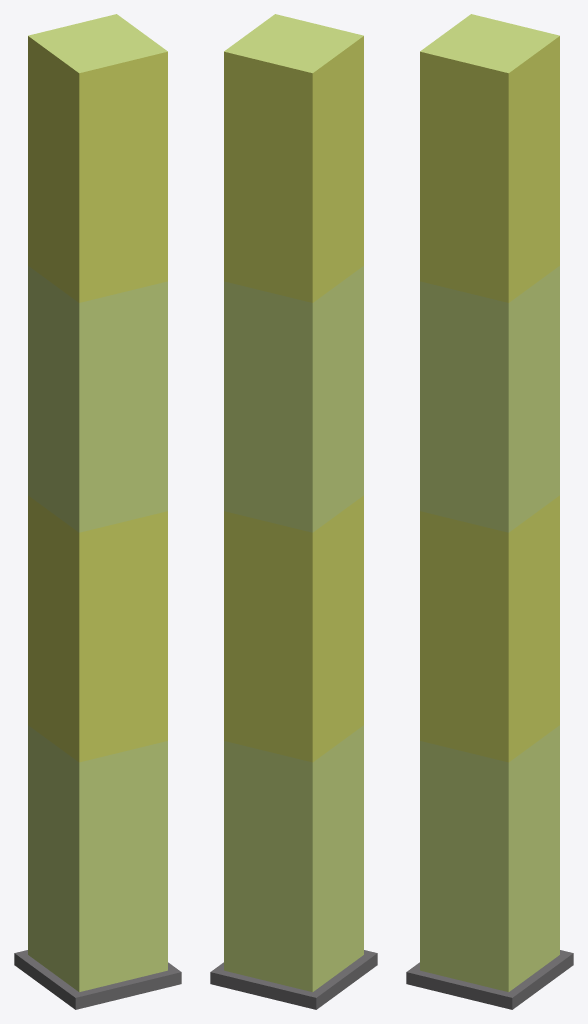
The model's file is StageT2.fbx.
The picture shows the model from 3 angles, left to right: view 1: azimuth 30°, elevation 25°; view 2: azimuth 150°, elevation 25°; view 3: azimuth 330°, elevation 25°; orthographic projection.
Parts seen in each view (by area): view 1: 立方体; view 2: 立方体; view 3: 立方体.
Part boxes in pixels (x1=…): 立方体: x1=14, y1=14, x2=181, y2=1009; 立方体: x1=210, y1=14, x2=377, y2=1009; 立方体: x1=406, y1=14, x2=573, y2=1009.
Size of the model in its own units: 1.19 by 10 by 1.19.
